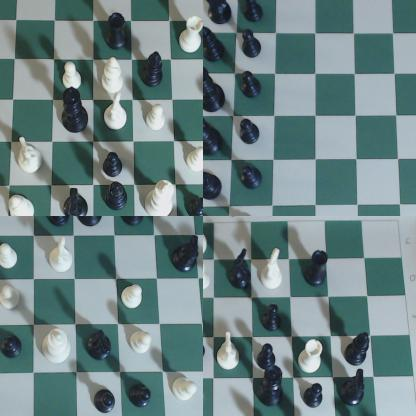black-bishop: (344, 330, 373, 370), (142, 49, 167, 90), (204, 26, 229, 64), (105, 182, 131, 215), (204, 170, 224, 201), (46, 217, 73, 226)
black-king: (60, 88, 92, 138), (204, 67, 228, 115)
black-knight: (343, 370, 373, 409), (59, 184, 95, 216), (172, 236, 201, 273), (231, 249, 253, 292), (87, 330, 113, 362), (204, 1, 235, 26)
black-pawn: (305, 381, 329, 416), (239, 70, 264, 100), (103, 152, 128, 180), (240, 166, 266, 191), (1, 334, 26, 360), (262, 304, 286, 331), (242, 30, 263, 59), (240, 119, 261, 147), (128, 385, 153, 408), (94, 388, 116, 413), (260, 342, 279, 370), (244, 1, 266, 24), (188, 195, 203, 216), (204, 332, 209, 365)
black-queen: (260, 367, 291, 414), (204, 113, 227, 158), (76, 217, 105, 229)
black-rook: (300, 251, 332, 293), (105, 10, 129, 52), (123, 217, 149, 229)
white-bishop: (102, 58, 129, 96), (8, 192, 39, 216), (204, 376, 210, 413)
white-king: (42, 327, 73, 366), (143, 181, 176, 216)
white-knight: (213, 329, 245, 378), (17, 134, 46, 177), (261, 252, 288, 291), (50, 237, 74, 275), (105, 95, 128, 132)
white-pawn: (60, 58, 84, 91), (143, 104, 167, 134), (174, 377, 200, 404), (121, 284, 146, 310), (130, 330, 153, 356), (1, 285, 23, 312), (1, 243, 20, 272), (204, 259, 216, 302), (188, 147, 203, 176)
white-rook: (297, 339, 327, 377), (176, 15, 203, 57)
